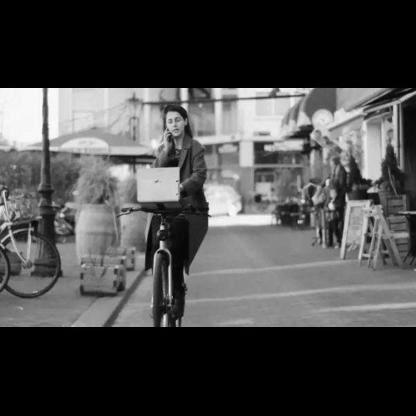Bicycle: (111, 204, 211, 328)
